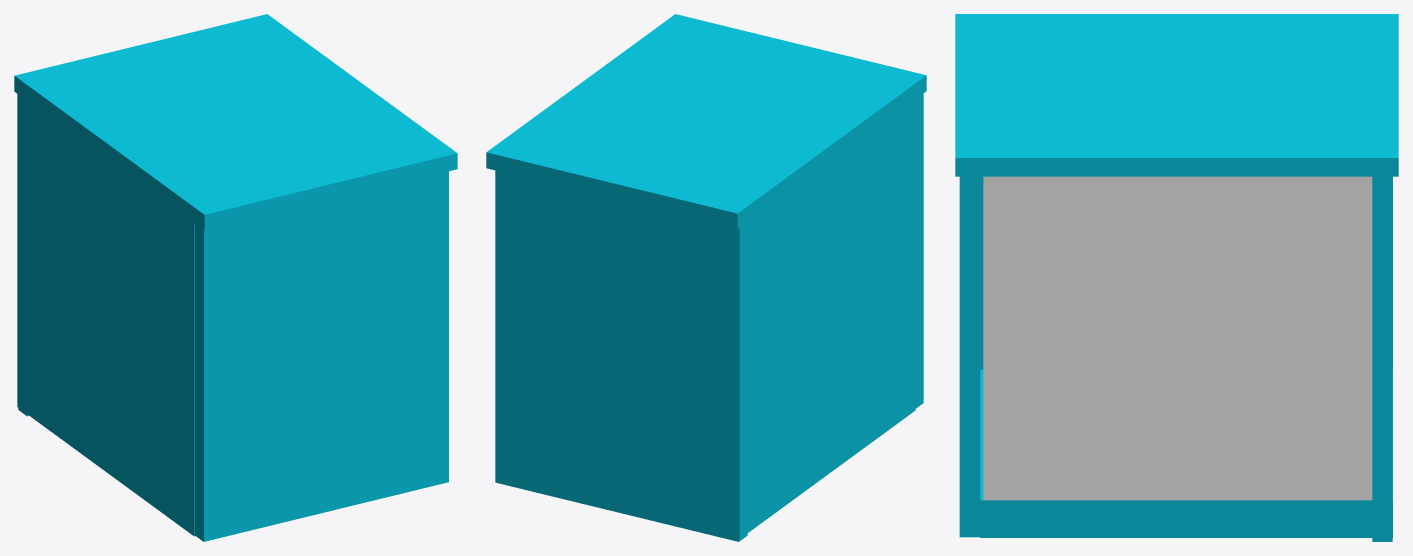
Rendered from Wardrobe.glb.
3 renders of one model, left to right at view 1: azimuth 30°, elevation 25°; view 2: azimuth 150°, elevation 25°; view 3: azimuth 270°, elevation 25°, orthographic. The views are drawn at different scales.
Parts seen in each view (by area): view 1: Wall 2, Wall 3, Top, Base; view 2: Wall 1, Wall 3, Top, Base, Wall 2; view 3: Top, Door 2, Door 1, Base, Wall 2, Wall 1, Wall 3.
Part boxes in pixels (x1,y1,x2,y2): Wall 2: [195, 171, 448, 541]; Wall 3: [17, 94, 194, 534]; Top: [14, 14, 457, 230]; Base: [17, 375, 195, 536]; Wall 1: [495, 170, 747, 541]; Wall 3: [724, 99, 915, 537]; Top: [486, 14, 926, 229]; Base: [496, 396, 915, 538]; Wall 2: [915, 93, 923, 408]; Top: [955, 14, 1398, 176]; Door 2: [1176, 176, 1372, 500]; Door 1: [983, 176, 1176, 500]; Base: [980, 369, 1392, 537]; Wall 2: [959, 176, 980, 537]; Wall 1: [1372, 176, 1392, 541]; Wall 3: [980, 176, 1392, 369].
Bounding box in the file's own units: 105 × 132 × 137.
